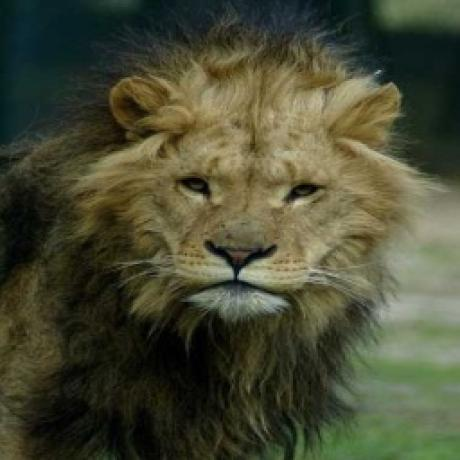Lion: (0, 25, 433, 459)
